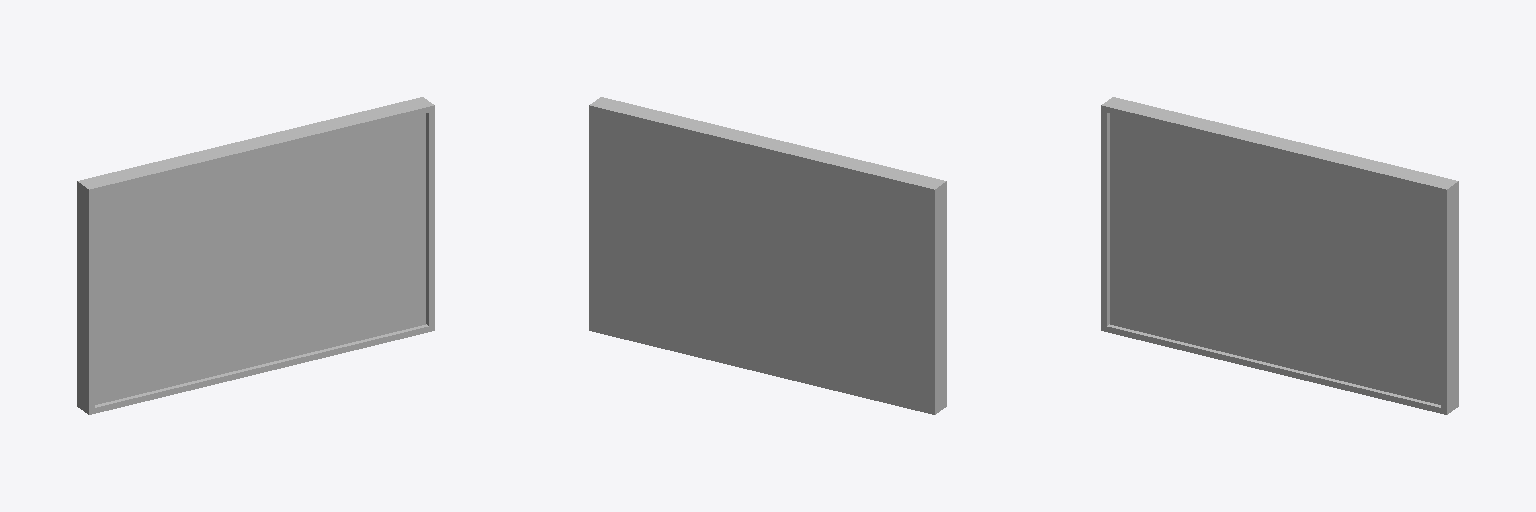
The model's file is wall pinboard.obj.
3 renders of one model, left to right at view 1: azimuth 30°, elevation 25°; view 2: azimuth 150°, elevation 25°; view 3: azimuth 330°, elevation 25°, orthographic.
Visible parts, largest first — view 1: Pinboard; view 2: Pinboard; view 3: Pinboard.
Boxes of the visible parts, x1=… form: Pinboard: x1=77, y1=97, x2=434, y2=414; Pinboard: x1=589, y1=97, x2=946, y2=414; Pinboard: x1=1101, y1=97, x2=1458, y2=414.
Bounding box in the file's own units: 196 × 122 × 11.61.